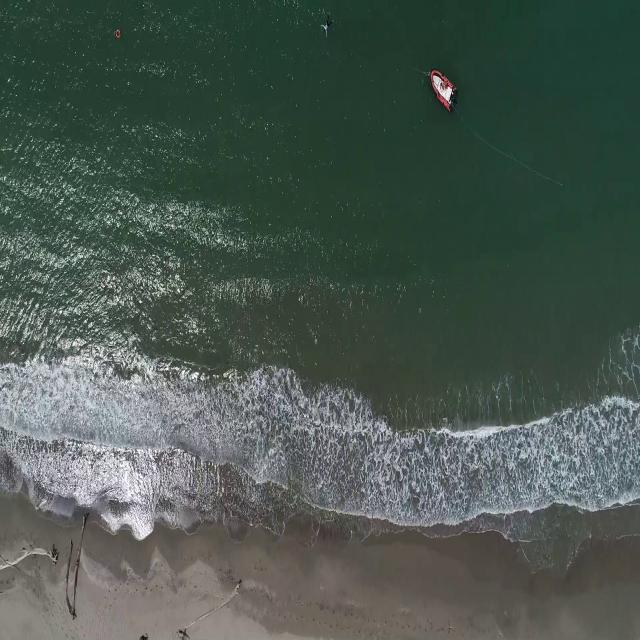boat: (429, 70, 457, 116)
life_buoy: (114, 29, 122, 41)
person: (321, 18, 334, 44)
wood: (176, 580, 243, 631), (67, 512, 88, 624), (0, 546, 63, 570)
